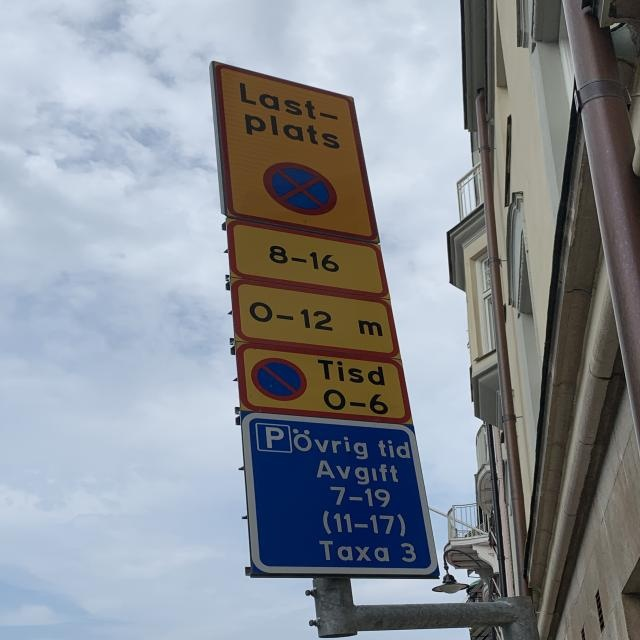lastplats: (208, 59, 385, 242)
